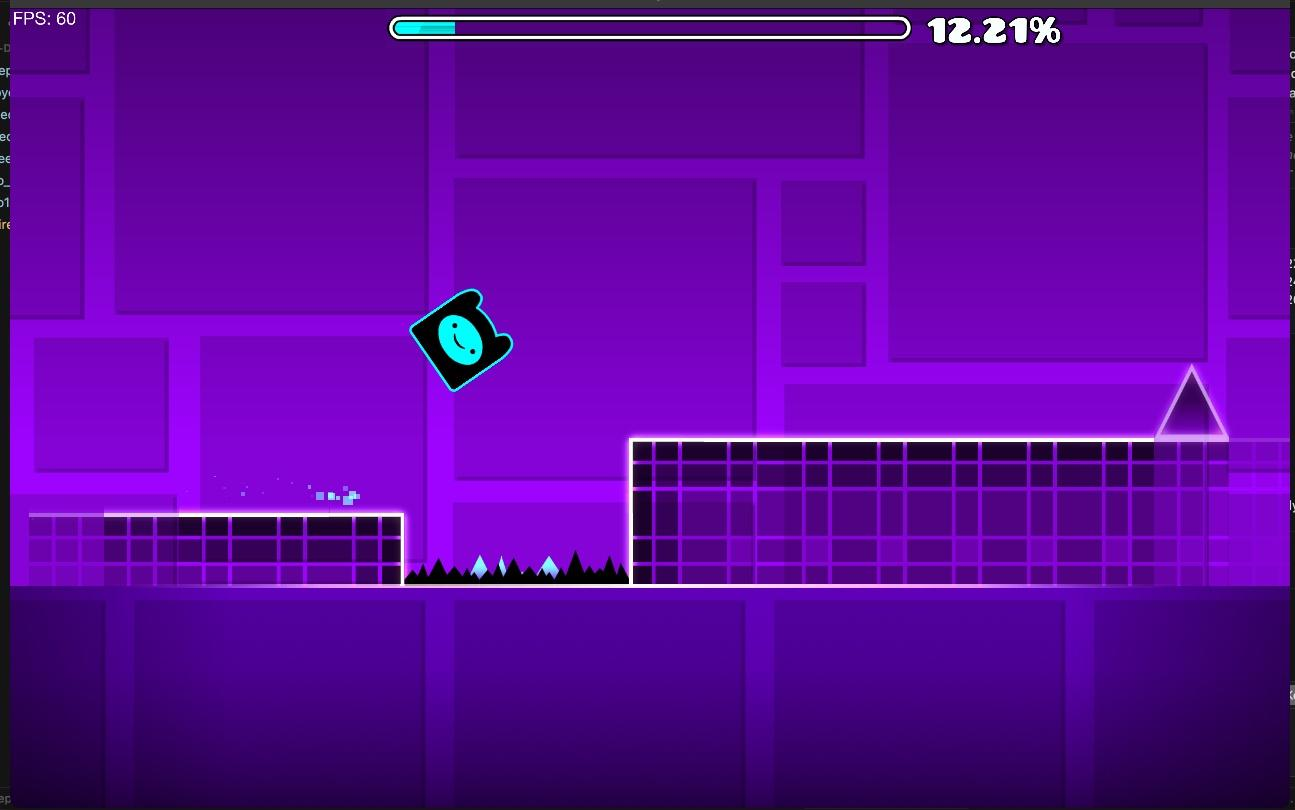block: (631, 439, 1282, 587), (29, 513, 406, 585)
player: (411, 289, 512, 390)
spike: (402, 557, 631, 584), (1157, 370, 1221, 435)
